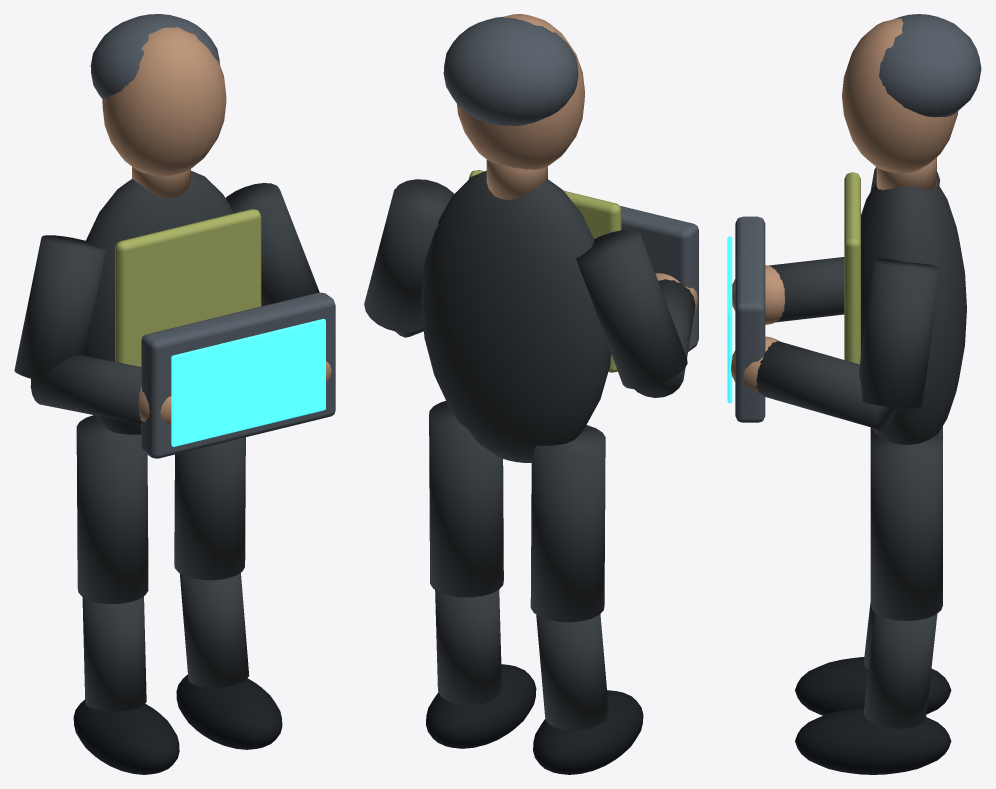
The model's file is engineer.glb.
3 renders of one model, left to right at view 1: azimuth 30°, elevation 25°; view 2: azimuth 150°, elevation 25°; view 3: azimuth 270°, elevation 25°, orthographic. The views are drawn at different scales.
Visible parts, largest first — view 1: legL_cloth.005, legR_cloth.005, body_vest.005, body_blue.017, body_skin.005, armL_cloth.005, body_dark.146, body_cloth.005, legL_rubber.005, legR_rubber.005, armR_cloth.005, body_dark.145; view 2: body_cloth.005, legL_cloth.005, legR_cloth.005, armL_cloth.005, body_dark.145, armR_cloth.005, body_skin.005, legL_rubber.005, legR_rubber.005, body_dark.146, body_vest.005; view 3: legR_cloth.005, armR_cloth.005, body_cloth.005, body_skin.005, body_dark.145, legR_rubber.005, body_dark.146, legL_rubber.005, armL_cloth.005, body_vest.005, armL_skin.005, body_blue.017 (+2 smaller).
Boxes of the visible parts, box(x1,y1,x2,y2) form: legL_cloth.005: box(76, 415, 148, 711); legR_cloth.005: box(174, 437, 249, 687); body_vest.005: box(115, 209, 261, 366); body_blue.017: box(171, 319, 325, 446); body_skin.005: box(102, 27, 226, 198); armL_cloth.005: box(14, 235, 142, 424); body_dark.146: box(141, 292, 335, 458); body_cloth.005: box(85, 171, 233, 434); legL_rubber.005: box(73, 700, 179, 774); legR_rubber.005: box(176, 674, 282, 749); armR_cloth.005: box(225, 183, 319, 306); body_dark.145: box(90, 14, 219, 98); body_cloth.005: box(421, 170, 611, 462); legL_cloth.005: box(530, 425, 608, 730); legR_cloth.005: box(429, 401, 503, 704); armL_cloth.005: box(576, 230, 695, 397); body_dark.145: box(443, 16, 578, 125); armR_cloth.005: box(364, 179, 453, 337); body_skin.005: box(457, 14, 584, 199); legL_rubber.005: box(533, 690, 643, 774); legR_rubber.005: box(426, 664, 536, 748); body_dark.146: box(620, 206, 698, 351); body_vest.005: box(468, 170, 621, 372); legR_cloth.005: box(863, 434, 942, 728); armR_cloth.005: box(756, 258, 939, 430); body_cloth.005: box(861, 182, 966, 444); body_skin.005: box(842, 18, 958, 190); body_dark.145: box(879, 14, 981, 117); legR_rubber.005: box(795, 708, 951, 774); body_dark.146: box(735, 216, 765, 422); legL_rubber.005: box(795, 657, 951, 715); armL_cloth.005: box(769, 167, 939, 322); body_vest.005: box(844, 172, 860, 364); armL_skin.005: box(732, 265, 784, 324); body_blue.017: box(727, 236, 732, 403).
Bounding box in the file's own units: 0.2931 × 0.662 × 0.211.
